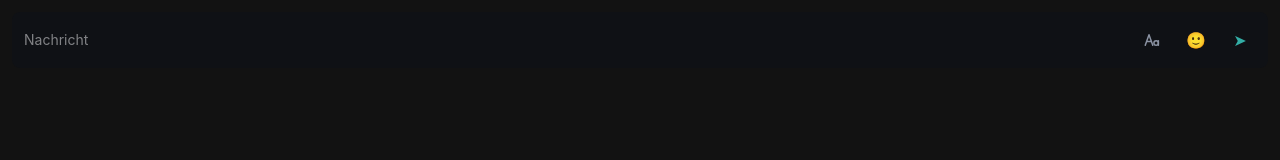
Composer: mention autocomplete › a word that already is a candidate's mention exactly is not offered again: Enter sends
Type "/kick @alice" into the dropdown labelled "Nachricht" at coordinates (574, 40), box 20,20 -> 1128,60
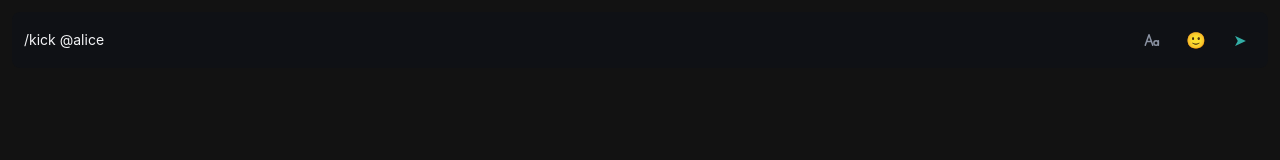
Press Enter
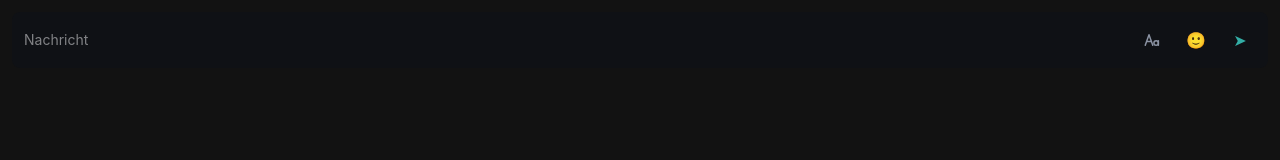
Type "hi @ALICE" into the dropdown labelled "Nachricht" at coordinates (574, 40), box 20,20 -> 1128,60
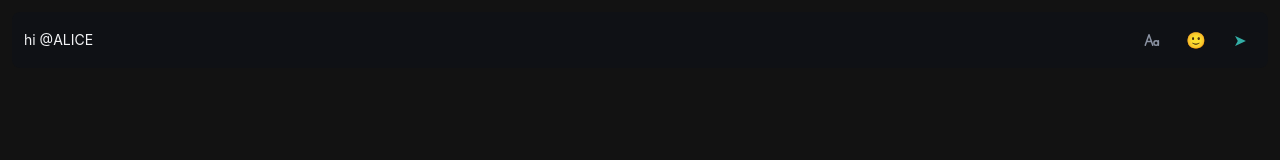
Replace the text in the dropdown named "Nachricht" with "@ali" at coordinates (574, 40), box 20,20 -> 1128,60
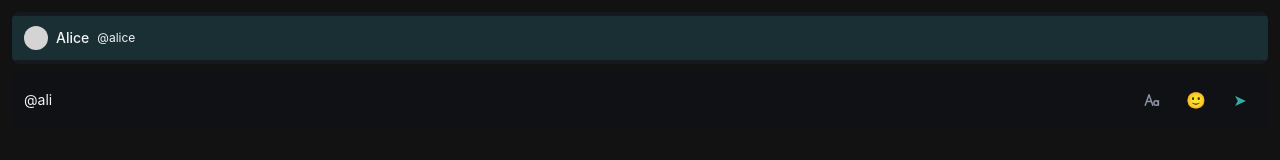
Press Enter
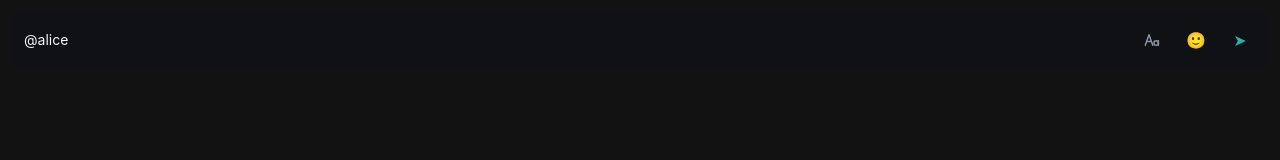
Now the dropdown named "Nachricht" holds "@alice ", box 20,20 -> 1128,60
